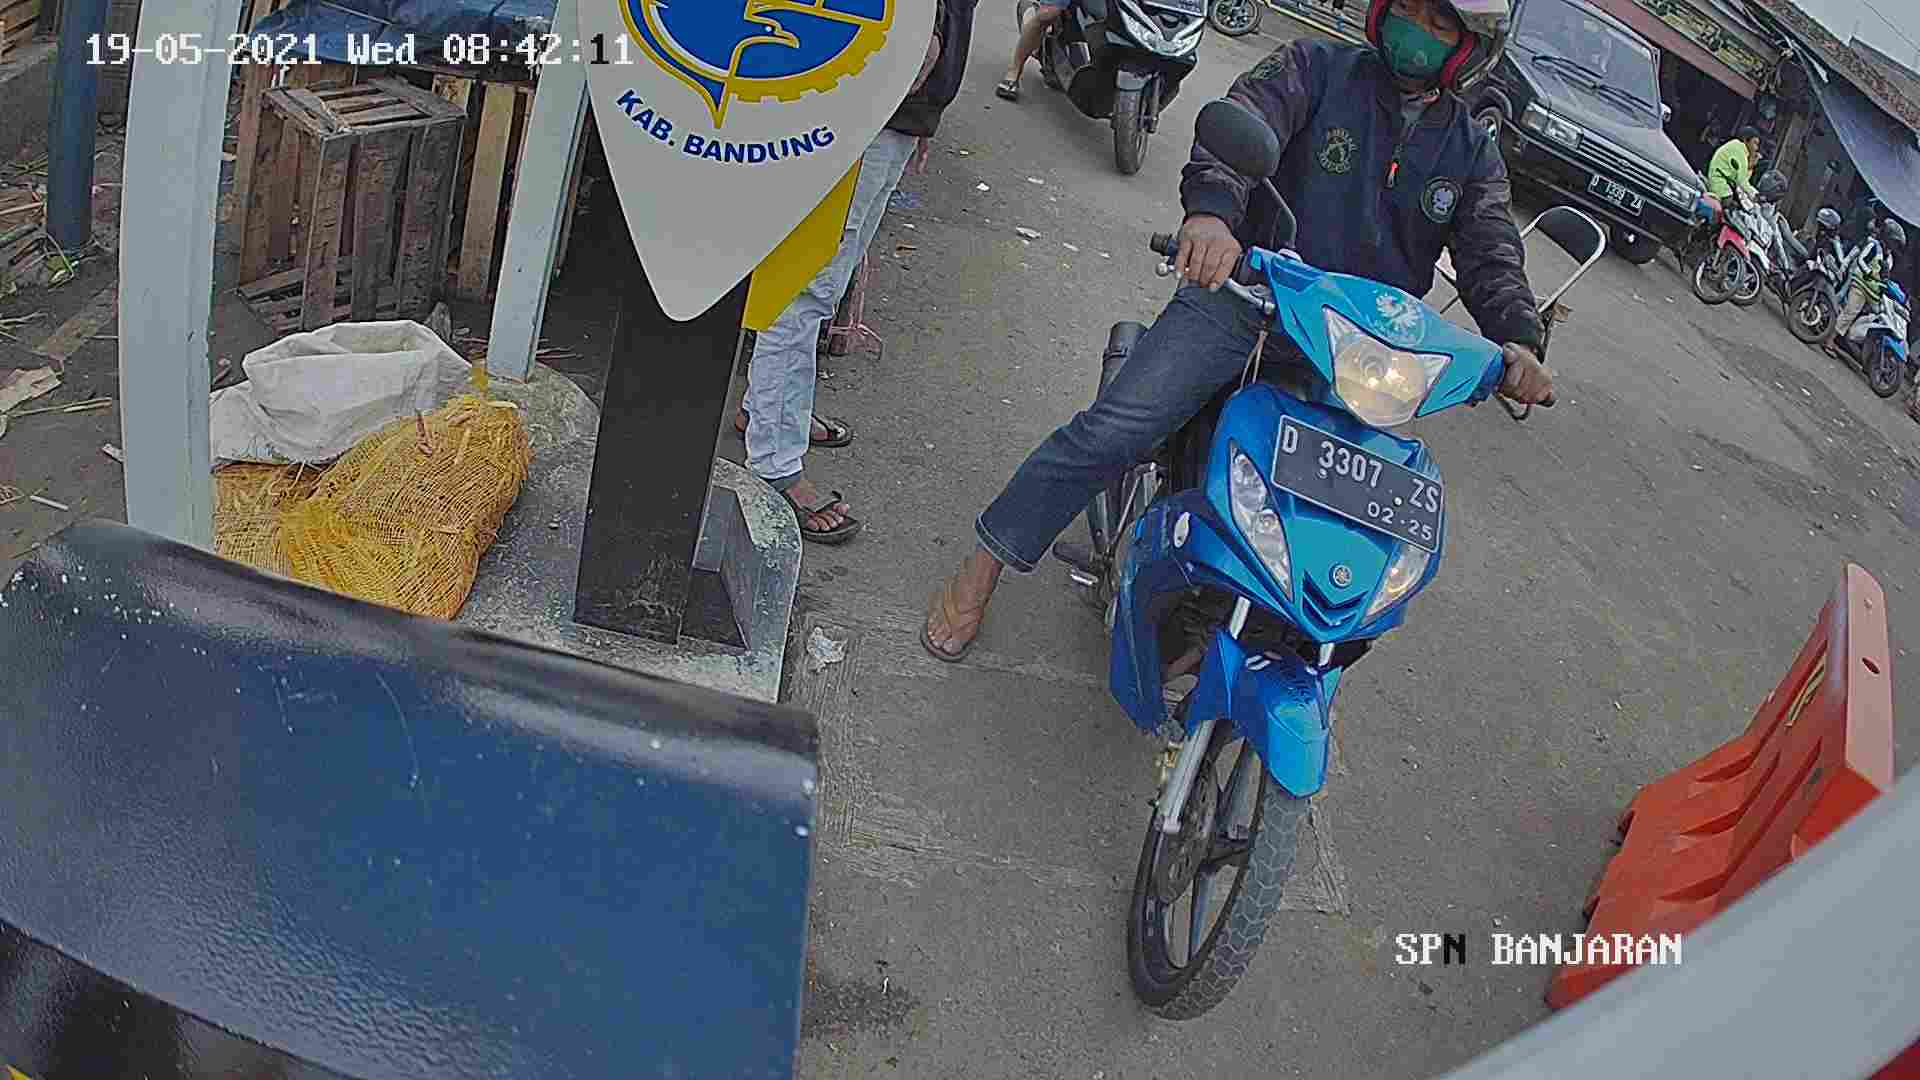motor: (1076, 212, 1487, 1036)
